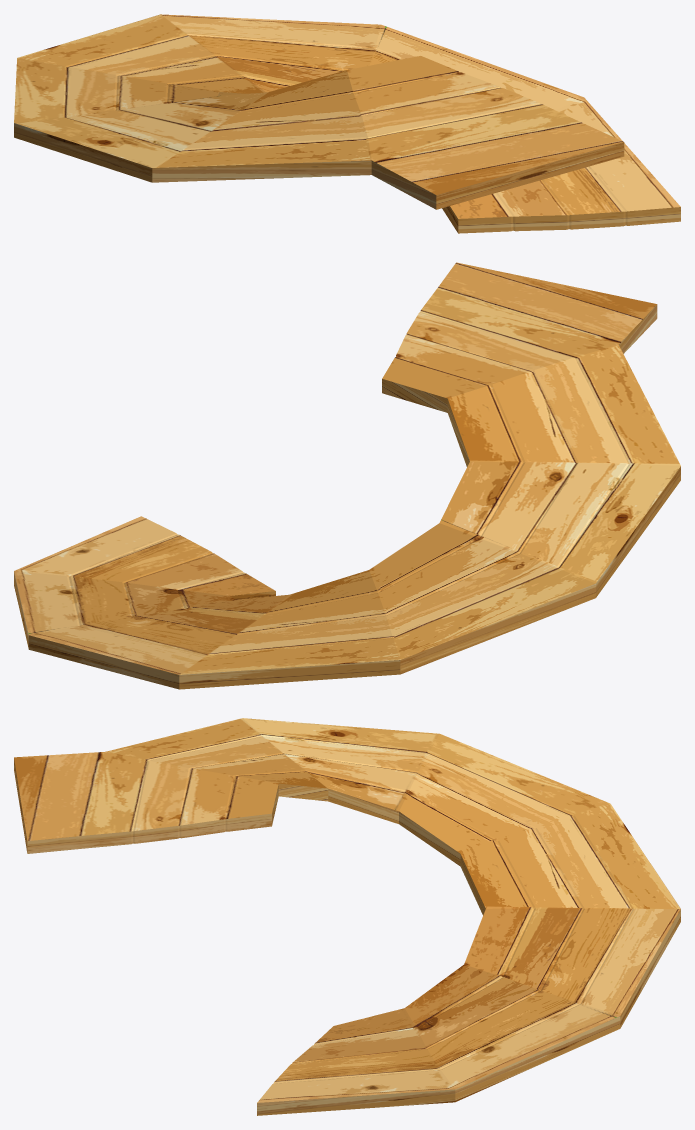
File: SM_TreePlatforms_Box001.FBX
The picture shows the model from 3 angles, top to bottom: view 1: azimuth 30°, elevation 25°; view 2: azimuth 150°, elevation 25°; view 3: azimuth 270°, elevation 25°; orthographic projection. The views are drawn at different scales.
Parts seen in each view (by area): view 1: Box001; view 2: Box001; view 3: Box001.
Boxes of the visible parts, x1,y1,x2,y2 form: Box001: (14,14,680,233); Box001: (14,262,680,689); Box001: (14,718,680,1115).
Size of the model in its own units: 0.2521 by 0.092 by 0.2861.
Materials: 1 (1 with a texture image).
